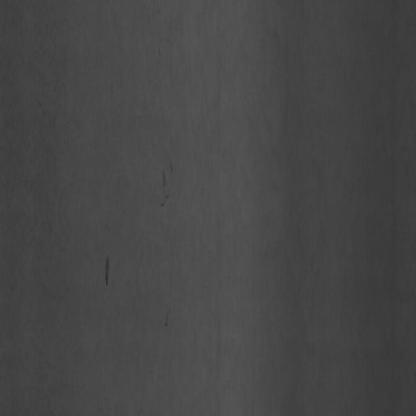oil_spot: (102, 249, 115, 291)
silk_spot: (0, 16, 88, 410)
water_spot: (154, 155, 177, 206)
